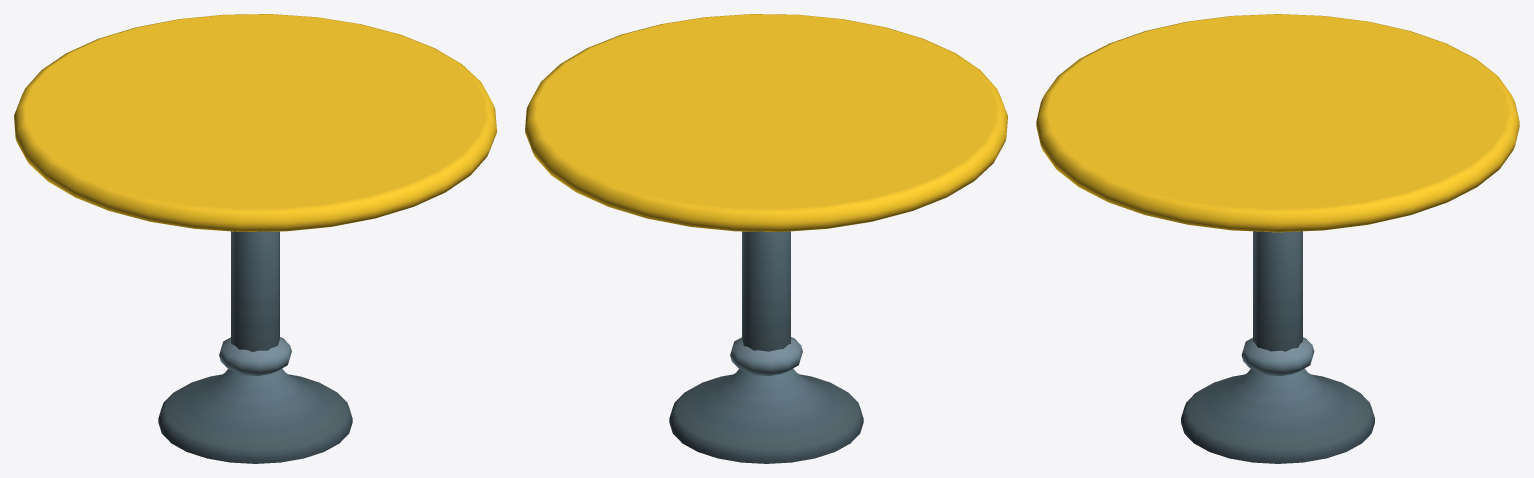
File: Kitchen_Table_02.glb
3 views of the same model, side by side, from view 1: azimuth 30°, elevation 25°; view 2: azimuth 150°, elevation 25°; view 3: azimuth 270°, elevation 25° (orthographic).
Visible parts, largest first — view 1: Kitchen_Table_02; view 2: Kitchen_Table_02; view 3: Kitchen_Table_02.
Boxes of the visible parts, box(x1,y1,x2,y2) form: Kitchen_Table_02: box(14, 14, 496, 463); Kitchen_Table_02: box(525, 14, 1007, 463); Kitchen_Table_02: box(1036, 14, 1519, 463).
Size of the model in its own units: 1.06 by 0.75 by 1.06.
1 material, 1 textured.
